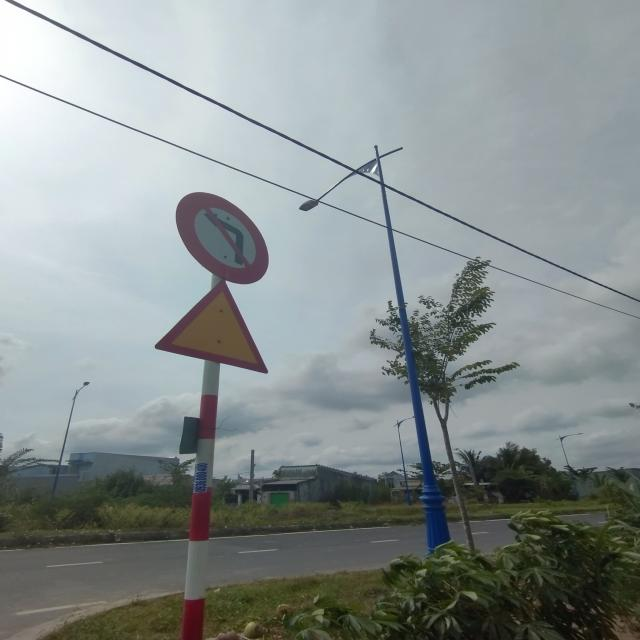Cam_Re_Trai: (174, 191, 270, 285)
Gioi_Han_Toc_Do_25: (154, 278, 268, 374)
